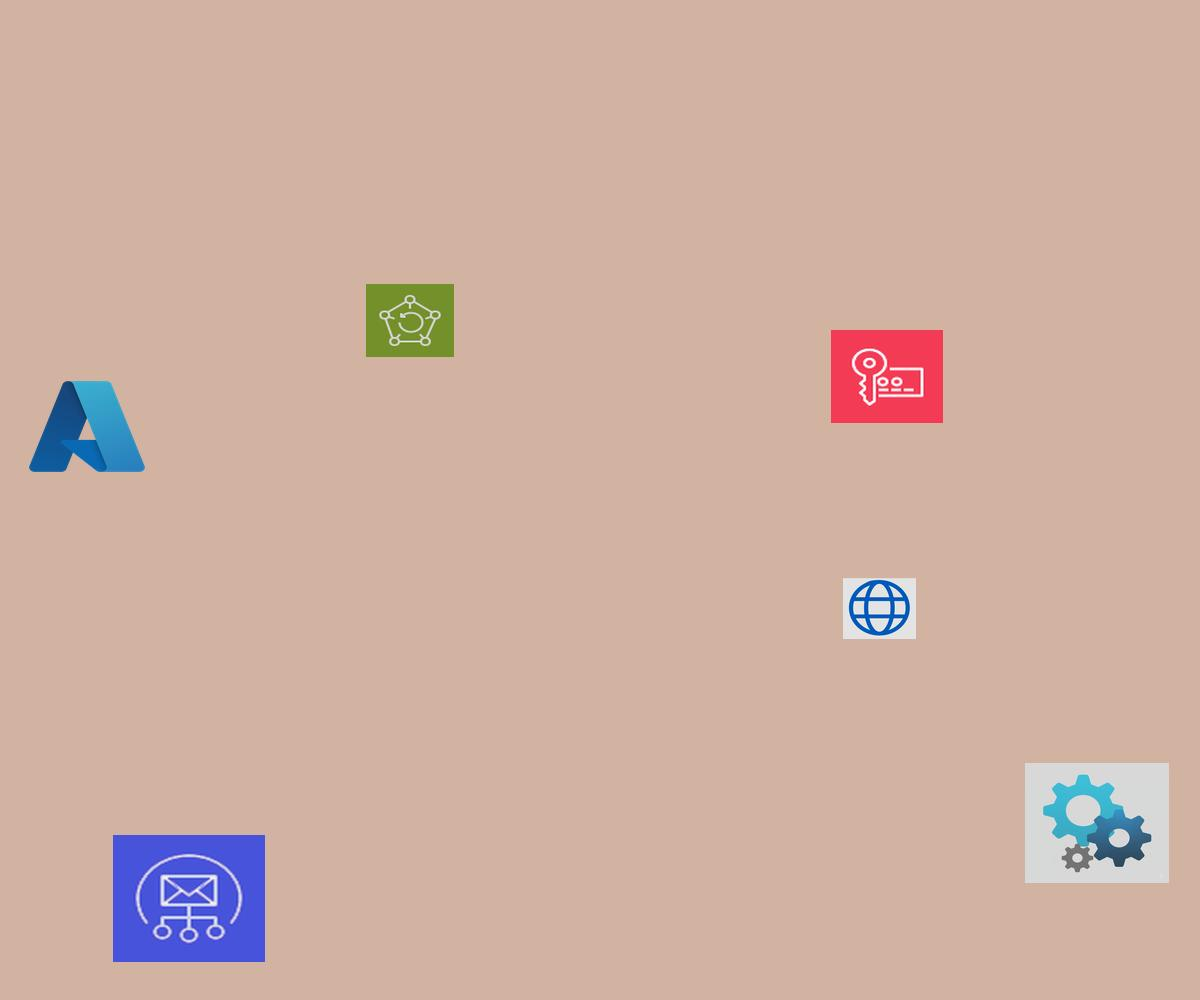AWS-Backup: (366, 284, 454, 357)
AWS-Key-Management-Service: (831, 330, 943, 423)
AWS-Simple-Email-Service: (113, 835, 265, 962)
Azure_api: (1025, 763, 1169, 883)
Azure_http: (843, 578, 916, 639)
Azure_services: (24, 374, 150, 479)
